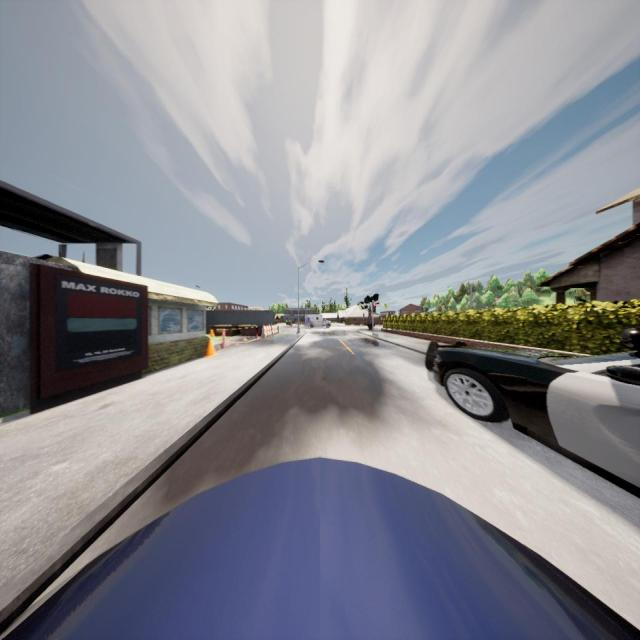Vehicle: (1, 458, 640, 640), (425, 322, 640, 503), (305, 315, 331, 328)
traffic_light: (372, 302, 376, 313)
